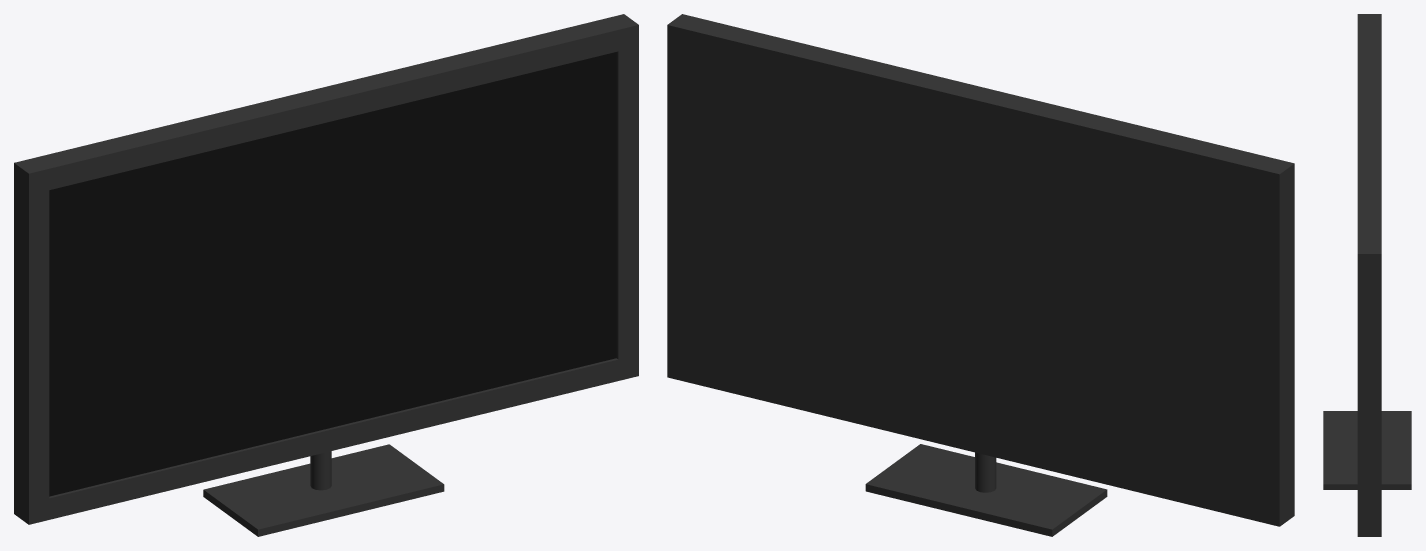
3 views of the same model, side by side, from view 1: azimuth 30°, elevation 25°; view 2: azimuth 150°, elevation 25°; view 3: azimuth 270°, elevation 25° (orthographic). The views are drawn at different scales.
Visible parts, largest first — view 1: TV001; view 2: TV001; view 3: TV001.
Boxes of the visible parts, bbox=[...] form: TV001: bbox=[14, 14, 638, 536]; TV001: bbox=[667, 14, 1294, 536]; TV001: bbox=[1323, 14, 1411, 536].
Size of the model in its own units: 47.8 by 29.83 by 7.43.
